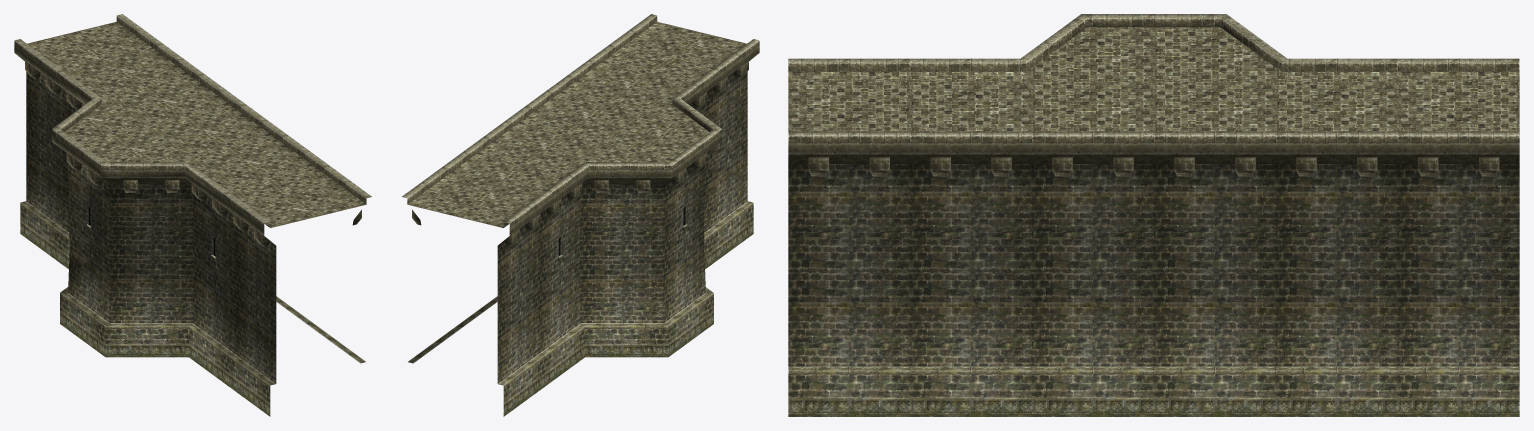
File: OZ_30_kn_castle01B.glb
The picture shows the model from 3 angles, left to right: view 1: azimuth 30°, elevation 25°; view 2: azimuth 150°, elevation 25°; view 3: azimuth 270°, elevation 25°; orthographic projection. The views are drawn at different scales.
Visible parts, largest first — view 1: OM_30_kn_castle01B; view 2: OM_30_kn_castle01B; view 3: OM_30_kn_castle01B.
Boxes of the visible parts, x1=… form: OM_30_kn_castle01B: x1=14, y1=14, x2=371, y2=416; OM_30_kn_castle01B: x1=402, y1=14, x2=759, y2=416; OM_30_kn_castle01B: x1=788, y1=14, x2=1519, y2=416.
Bounding box in the file's own units: 14.2 × 15.5 × 36.
3 materials, 3 textured.
